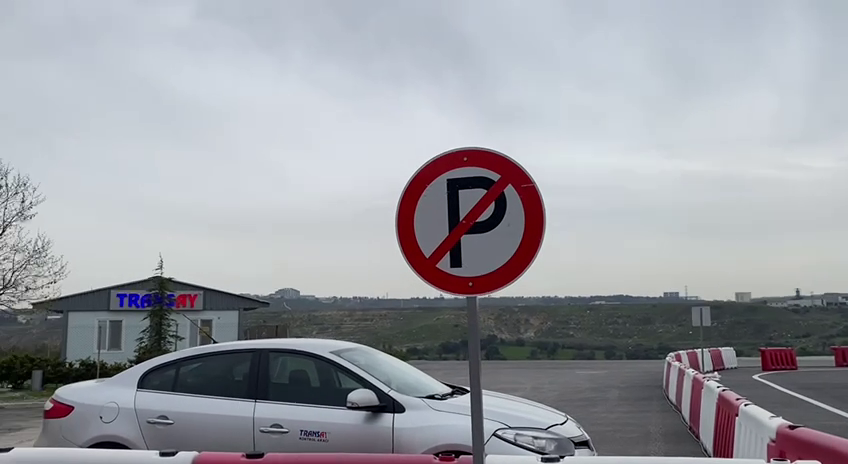noparking: (390, 143, 549, 299)
